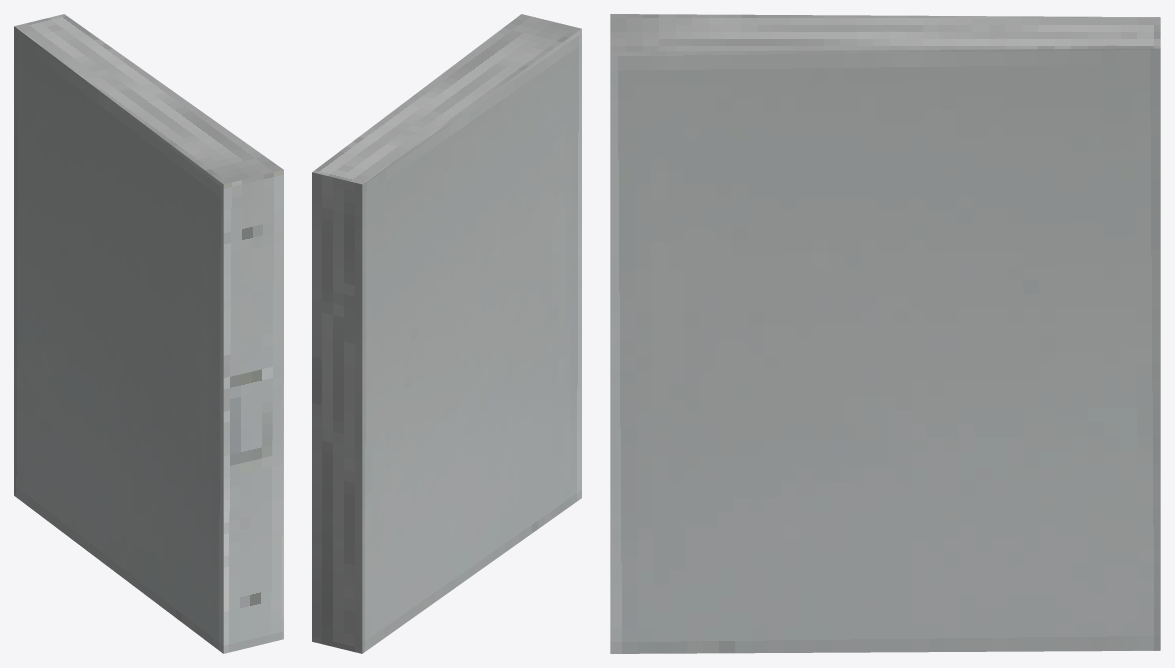
File: Binder.glb
3 renders of one model, left to right at view 1: azimuth 30°, elevation 25°; view 2: azimuth 150°, elevation 25°; view 3: azimuth 270°, elevation 25°, orthographic. The views are drawn at different scales.
Parts seen in each view (by area): view 1: binder; view 2: binder; view 3: binder.
Boxes of the visible parts, x1,y1,x2,y2 form: binder: [14, 14, 283, 653]; binder: [312, 14, 581, 653]; binder: [610, 14, 1160, 653].
Bounding box in the file's own units: 0.043 × 0.32 × 0.265.
1 material, 1 textured.
